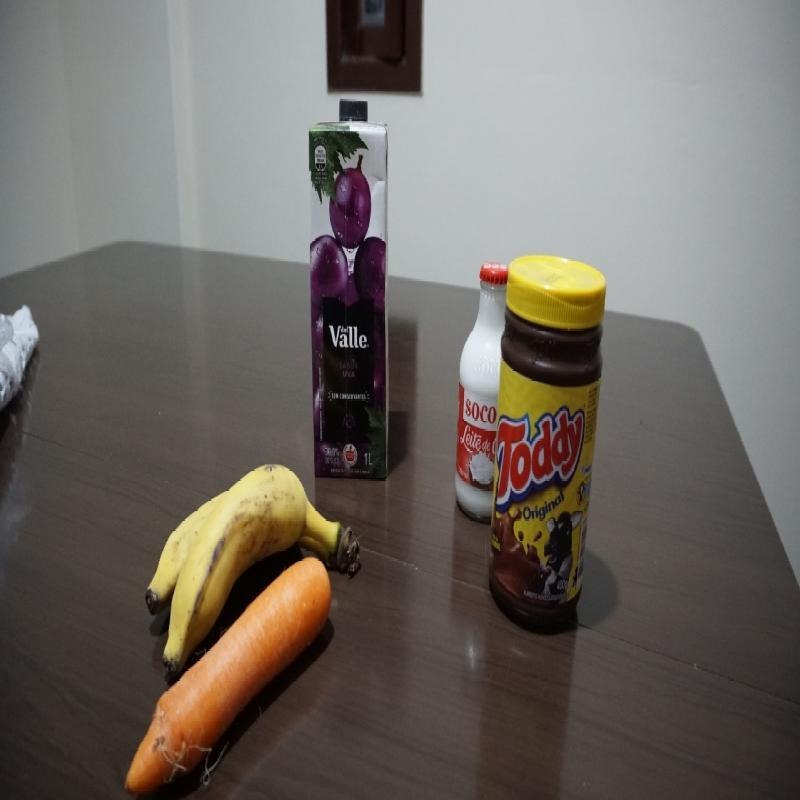Banana: (147, 456, 368, 555)
Carrot: (237, 560, 347, 710)
Chocolate Powder: (503, 246, 604, 619)
Coconut Milk: (445, 252, 498, 518)
